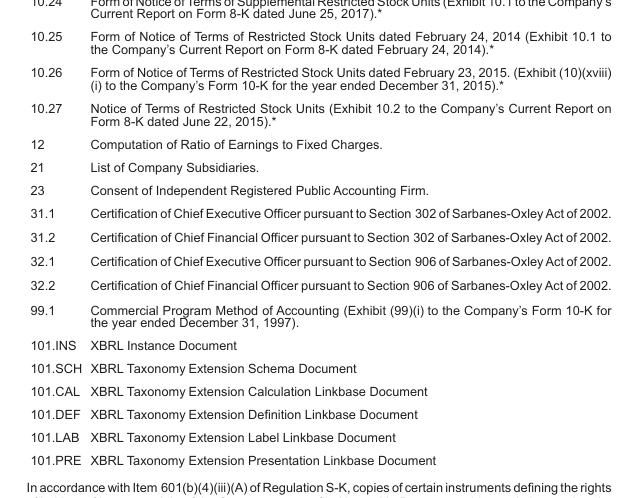table: (29, 28, 610, 466)
table column: (85, 28, 610, 466), (29, 28, 85, 466)
table row: (29, 95, 610, 131), (29, 297, 610, 333), (29, 60, 610, 95), (29, 28, 610, 60), (29, 272, 610, 297), (29, 200, 610, 224), (29, 224, 610, 248), (29, 248, 610, 272), (29, 131, 610, 154), (29, 154, 610, 177), (29, 177, 610, 200), (29, 333, 610, 356), (29, 356, 610, 379), (29, 379, 610, 402), (29, 402, 610, 425), (29, 425, 610, 448), (29, 448, 610, 466)
